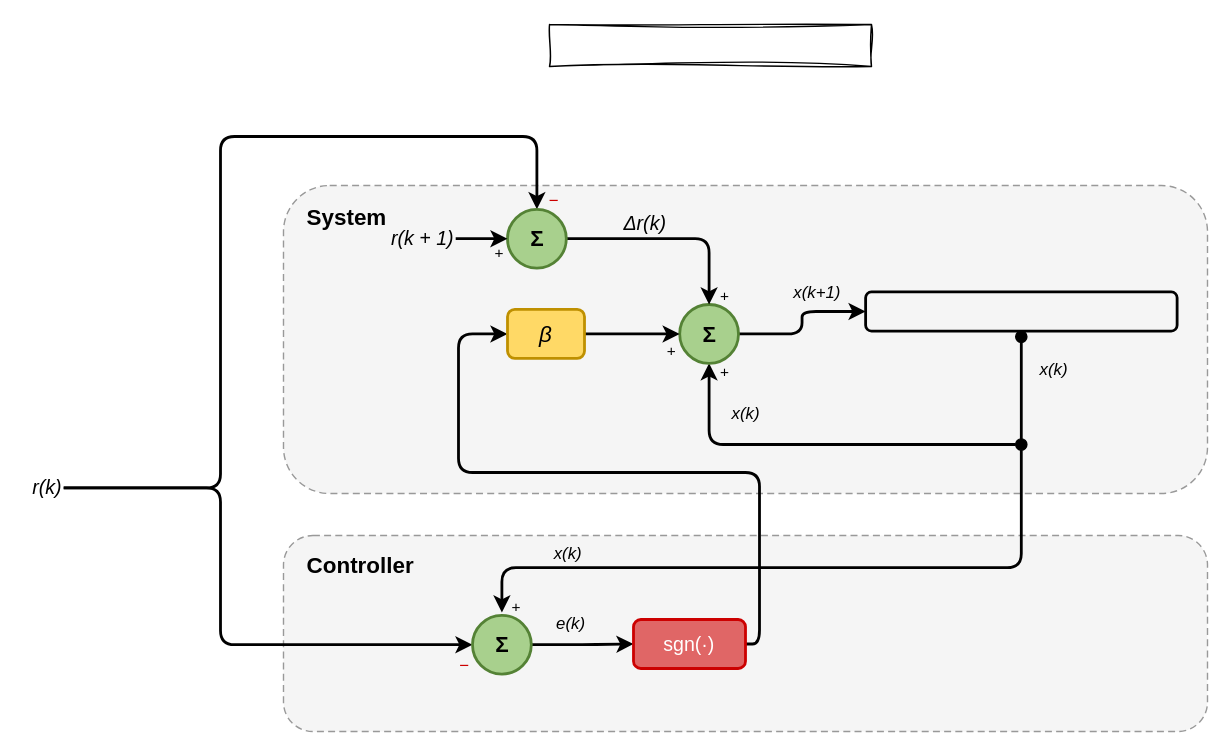
The diagram is 1232 pixels wide and 756 high, and some of its shapes have lost their labels. Here are the shapes that lost their labels. From the top down, the centre of each, then its label:
At [710,44]: "TODO: Separate Controller Into Another Page".
At [1021,311]: "x(k+1) = x(k) + β sgn(x(k) − r(k)) + Δr(k)".
